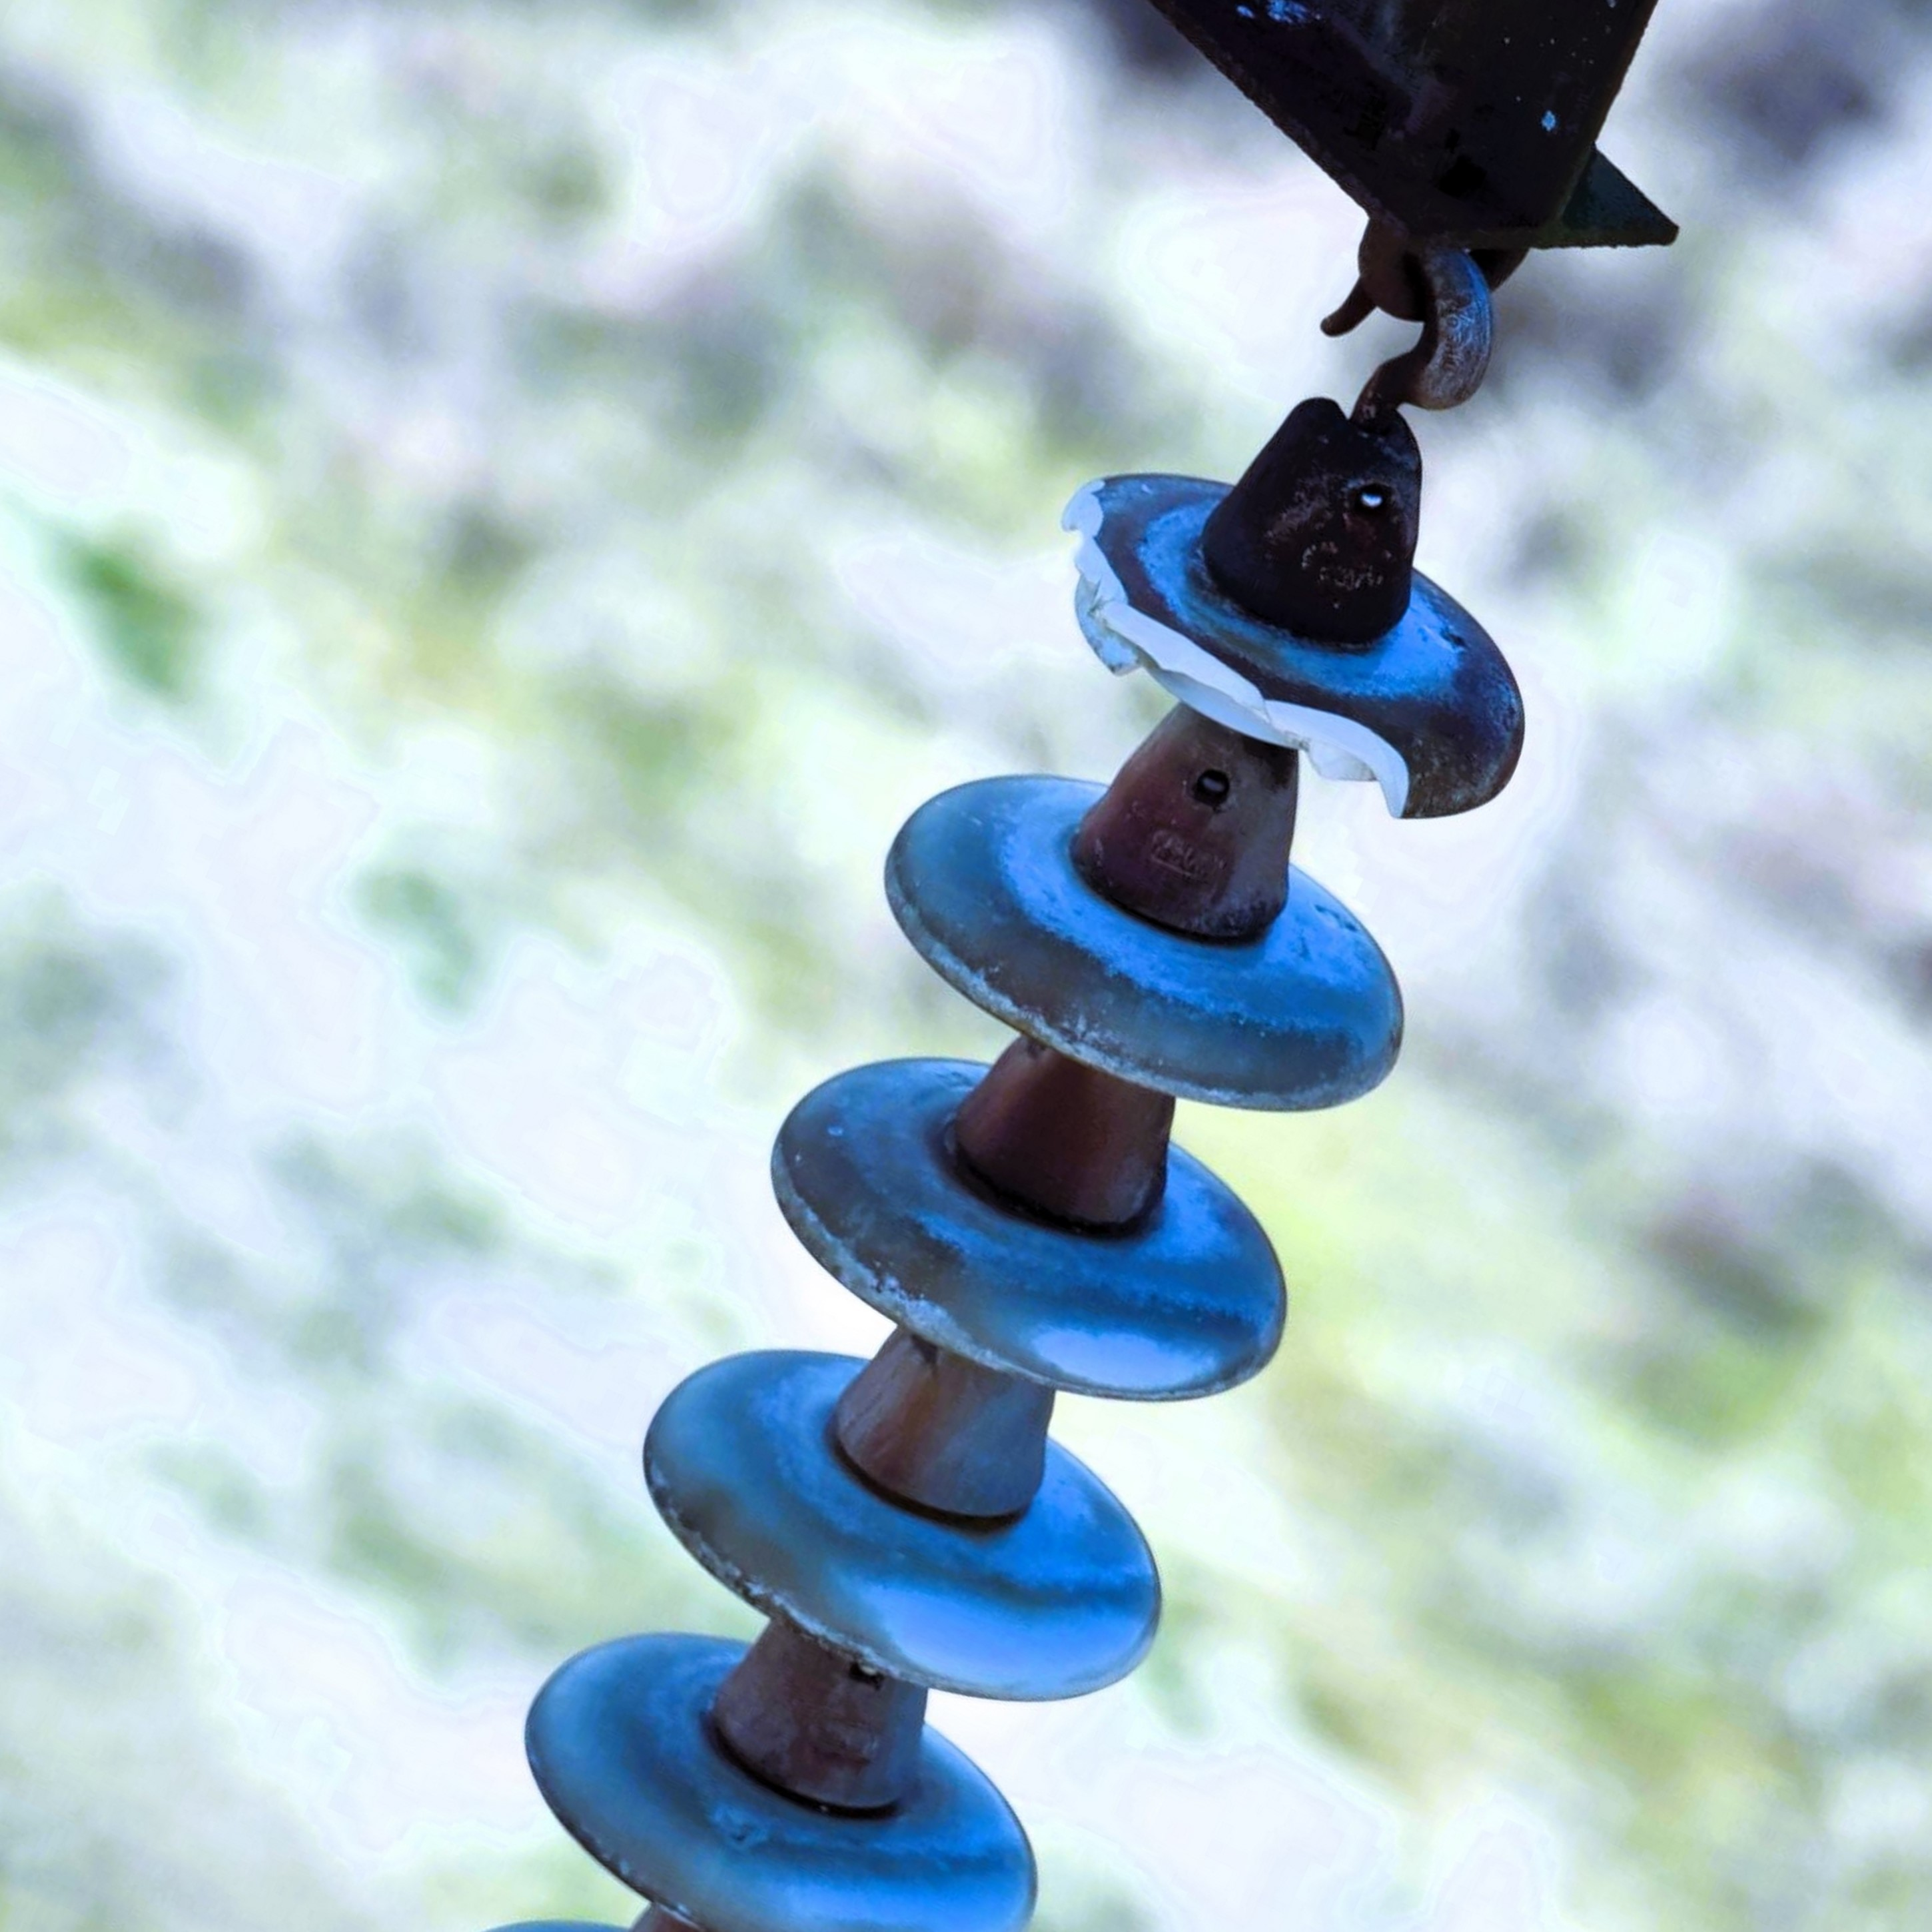insulator breakage: (1023, 456, 1525, 826)
